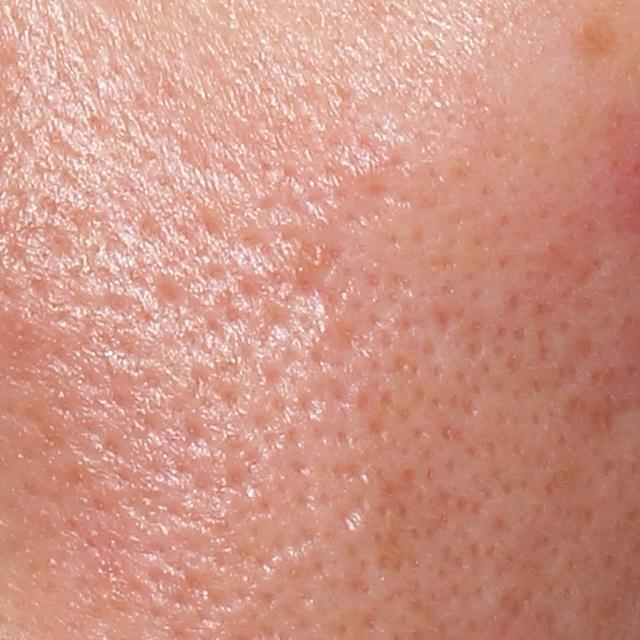atrophic_scar: (560, 391, 639, 452), (149, 272, 197, 315)
melasma: (569, 11, 621, 59)
